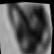correct: (1, 0, 54, 54)
